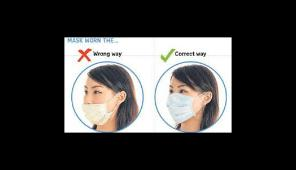mask_weared_incorrect: (82, 84, 114, 119)
with_mask: (168, 83, 195, 115)
